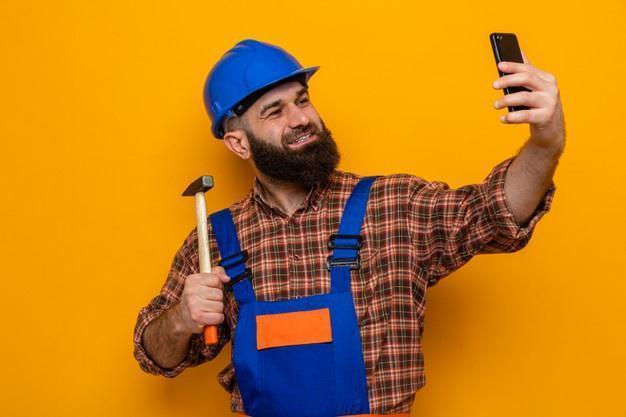helmet: (202, 36, 322, 135)
